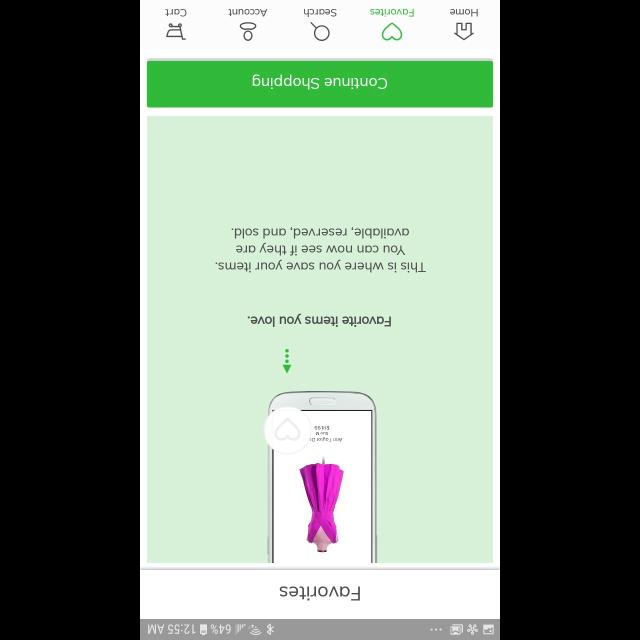icon: (310, 22, 330, 42), (454, 23, 474, 41), (382, 23, 402, 41), (240, 22, 256, 42), (166, 24, 186, 40), (282, 348, 292, 374)
image: (263, 390, 377, 562)
text: (214, 227, 426, 273), (247, 313, 391, 327), (280, 586, 360, 600), (370, 9, 414, 17), (304, 8, 336, 18), (228, 9, 268, 17), (450, 9, 478, 17), (165, 9, 187, 17)
textbutton: (148, 61, 492, 107)
uppertaskbar: (140, 618, 500, 640)
